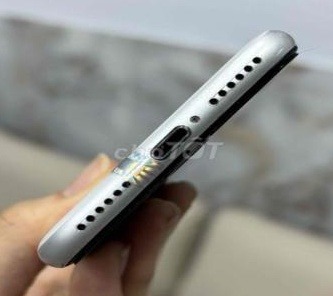scratch: (247, 32, 295, 57)
